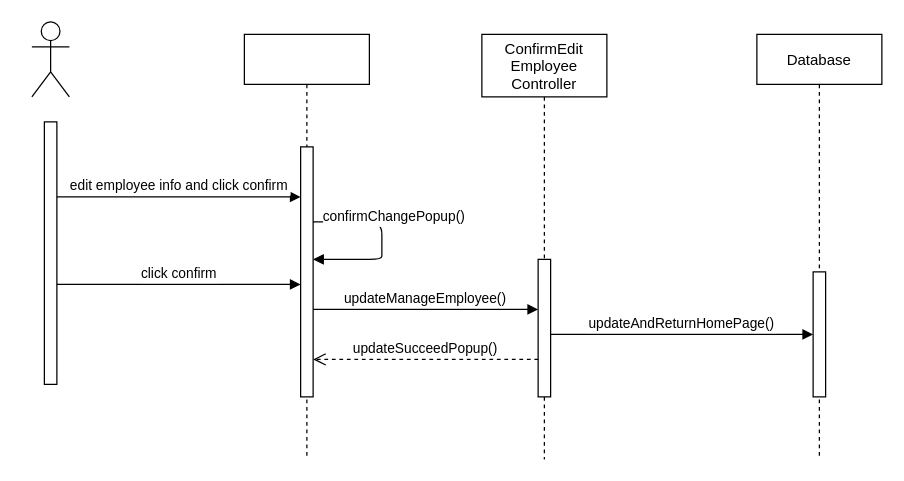
This 904x481 diagram has some shape labels left out. Here are the shapes that lost their labels. From the top down, the centre of each, then its label:
At [50,59]: "Manager".
At [306,246]: "ManageEmployee View".
